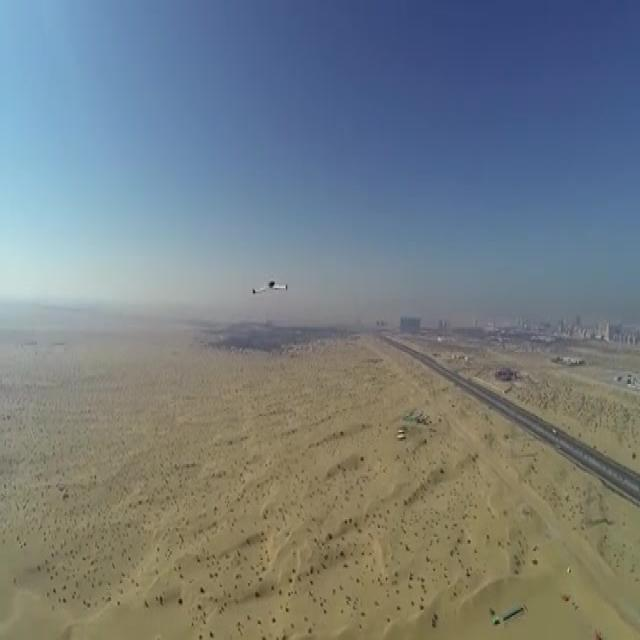iha: (251, 280, 288, 295)
